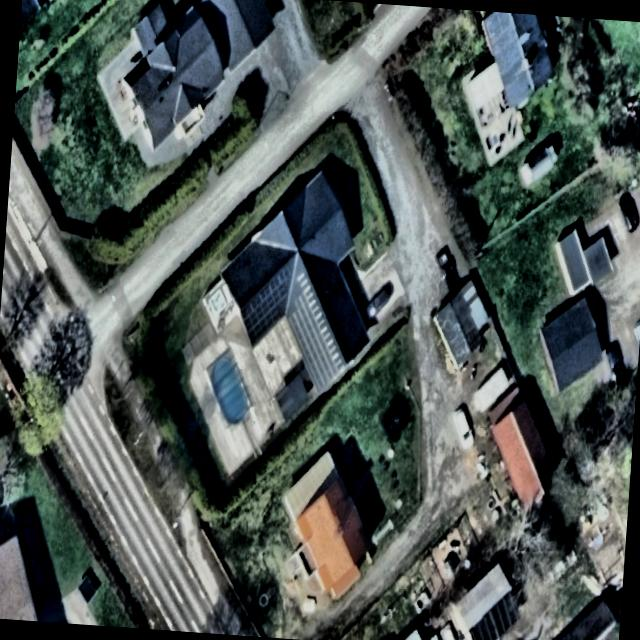roof_pv: (240, 265, 294, 347), (298, 303, 348, 391), (286, 269, 318, 339)
